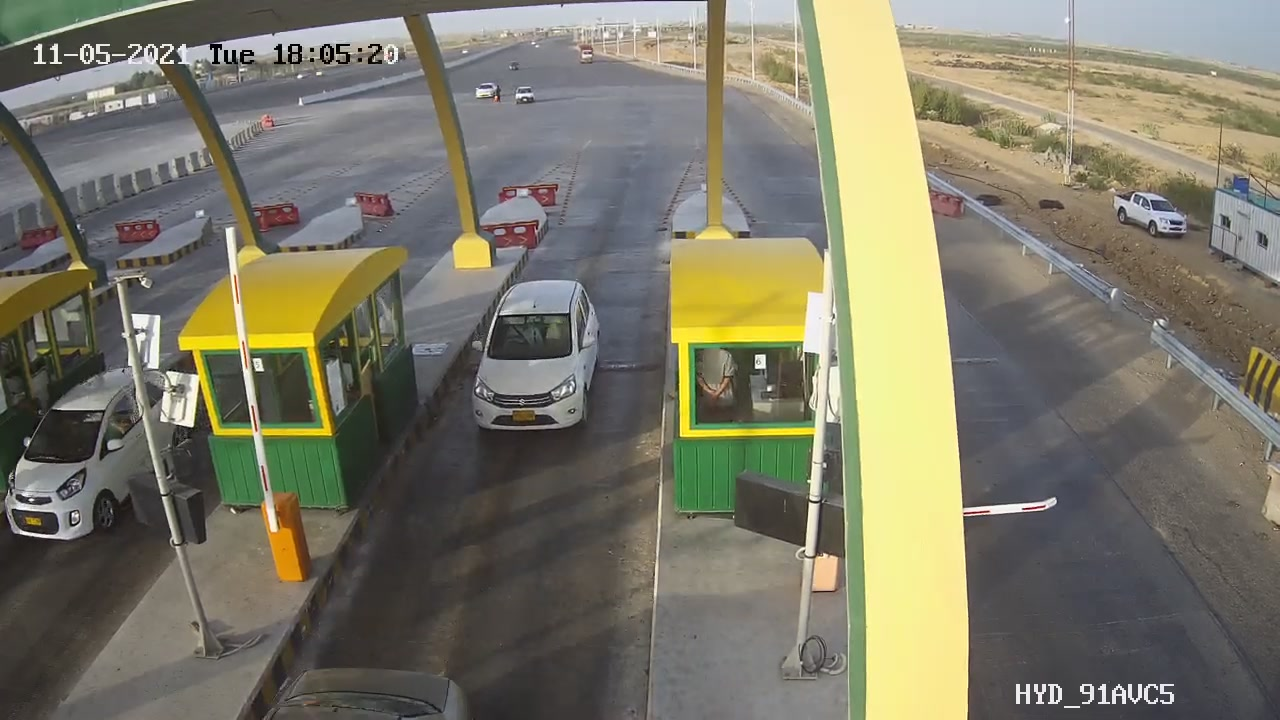F1: (453, 264, 620, 457)
